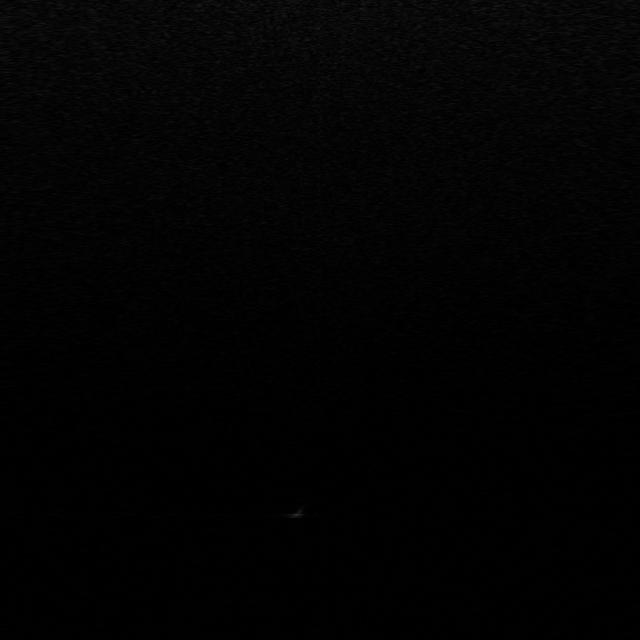ball: (283, 503, 308, 519)
